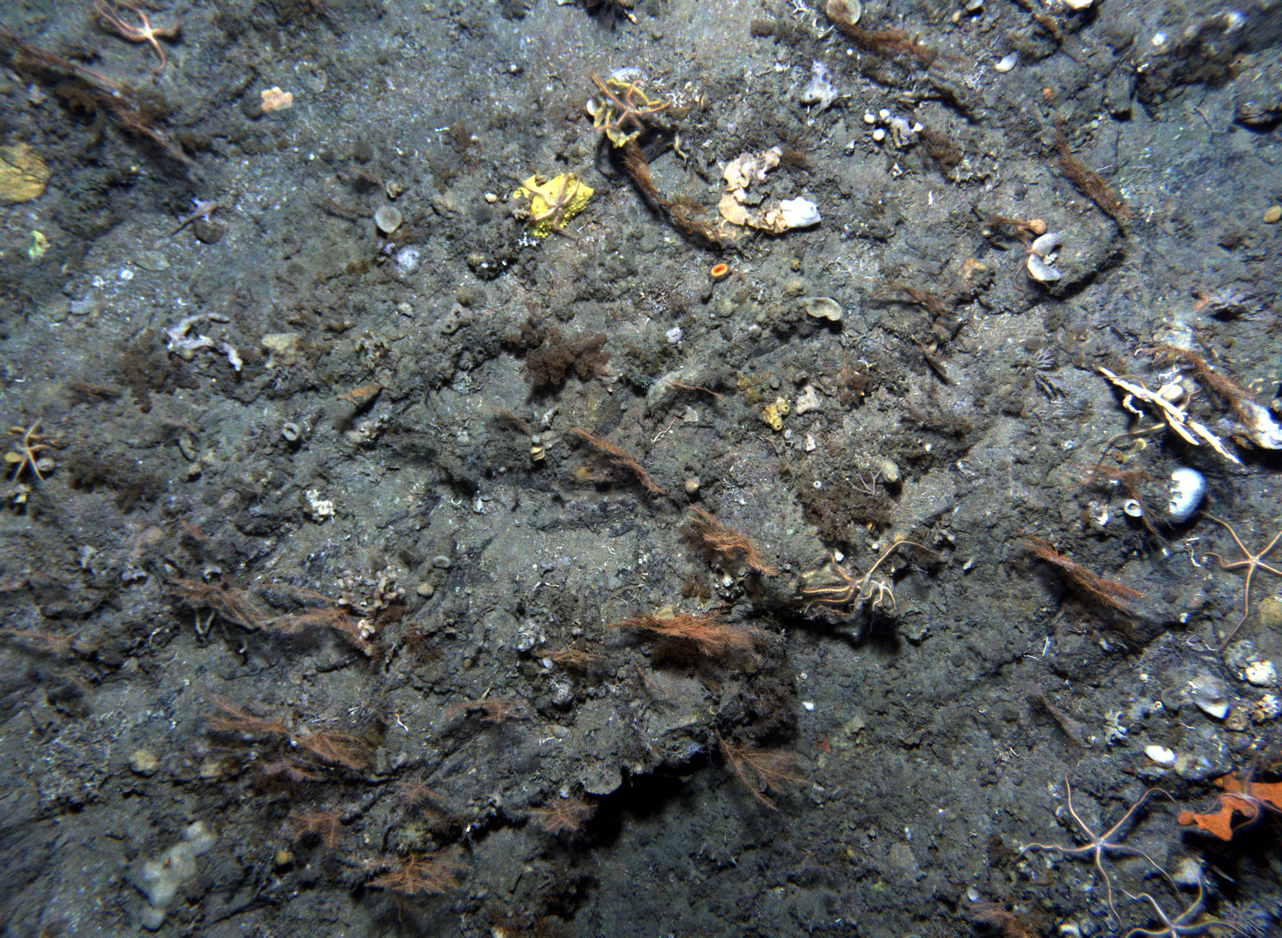Brachionichthyidae: (168, 194, 220, 237)
